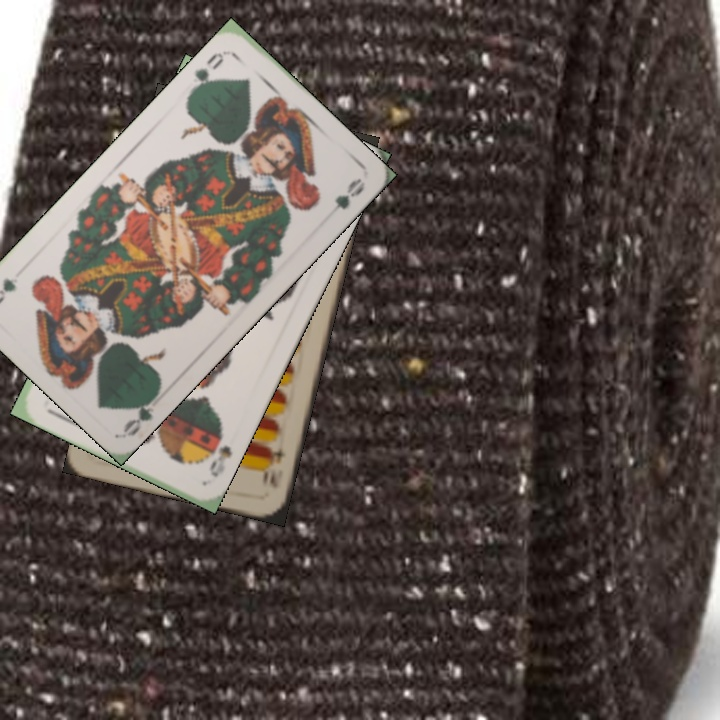E10: (258, 443, 286, 491)
GO: (120, 385, 163, 439), (187, 47, 231, 95)
SO: (205, 423, 235, 480)
